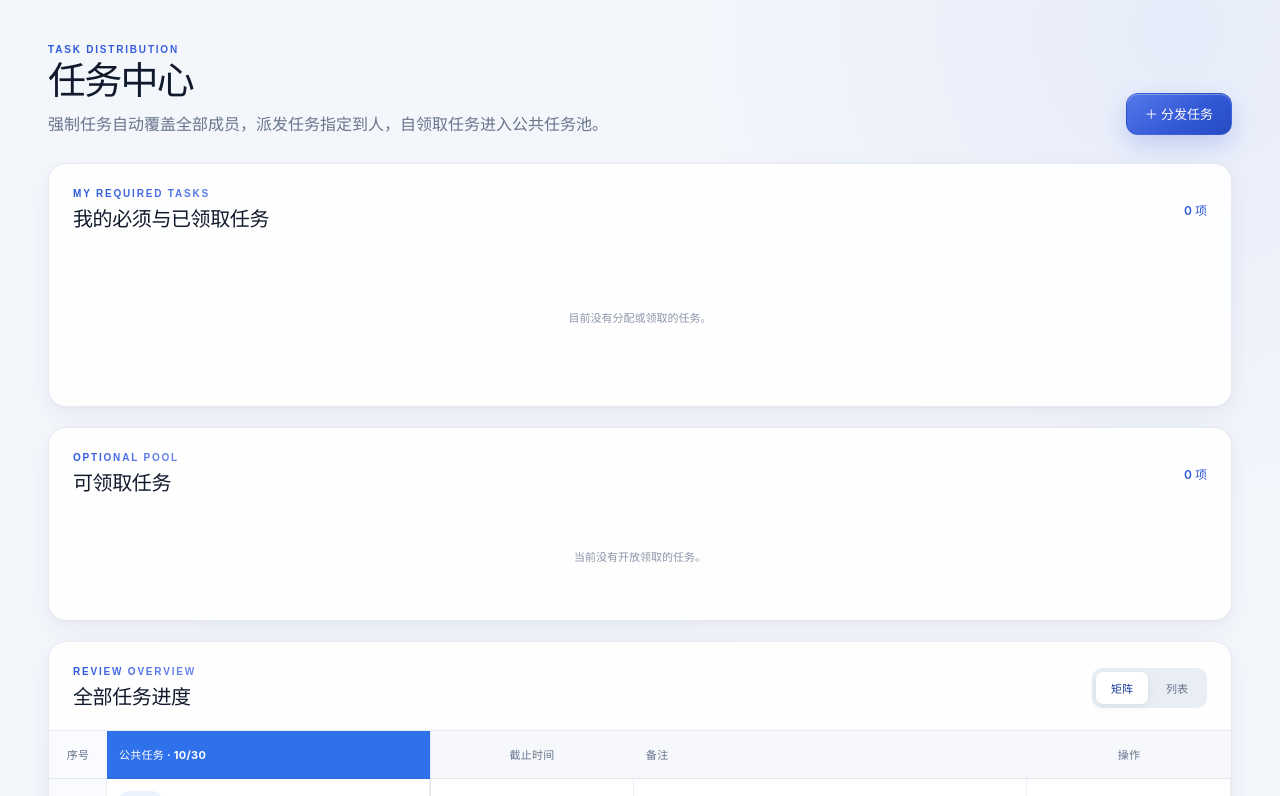
Test: large mocked workflow views › orders the newest task first, adds sequence numbers and lets an administrator delete an untouched task
Click the button "列表".
click(1177, 688)  # box [1151, 672, 1203, 704]
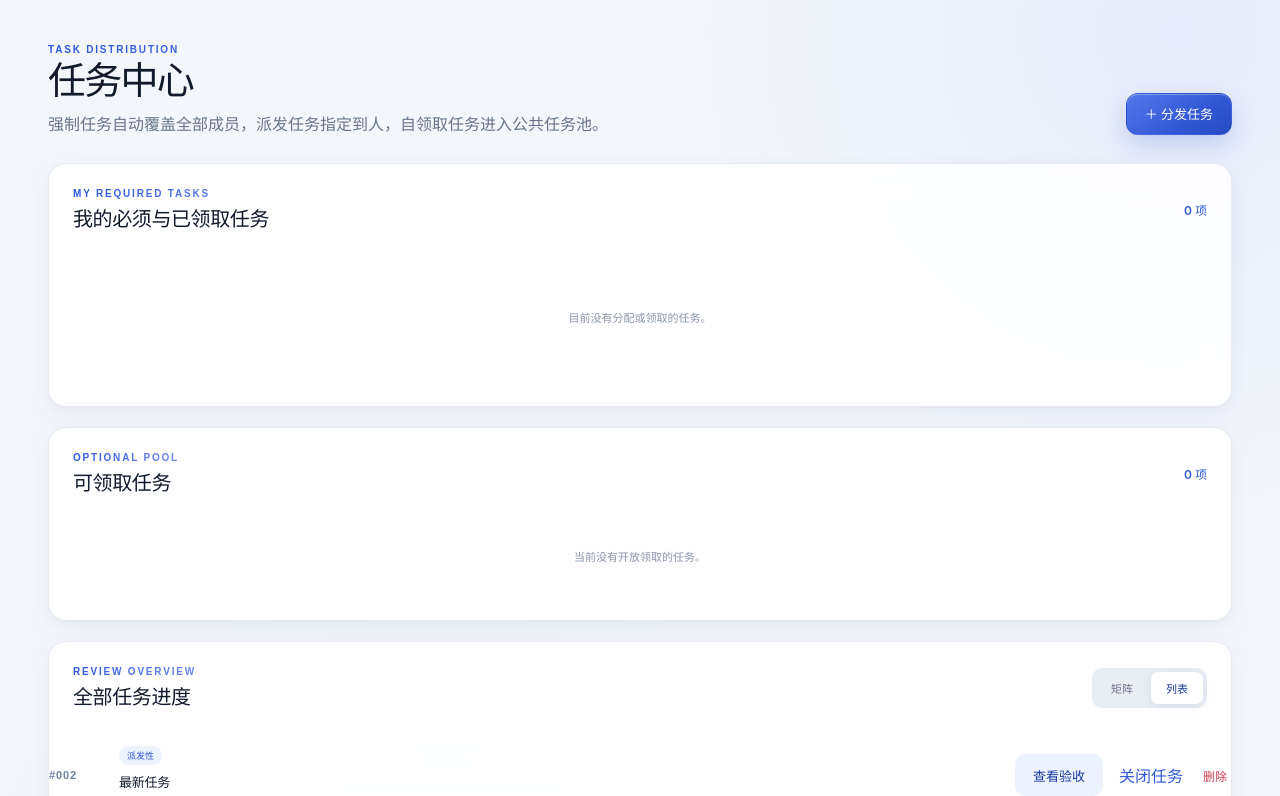
Check: the element with class "task-admin-row" shows "#002", box [49, 769, 77, 781]
Check: the element with class "task-admin-row" shows "最新任务", box [119, 774, 170, 790]
Click the button with class "task-delete".
click(1215, 775)  # box [1199, 760, 1231, 791]
(page scrolled)
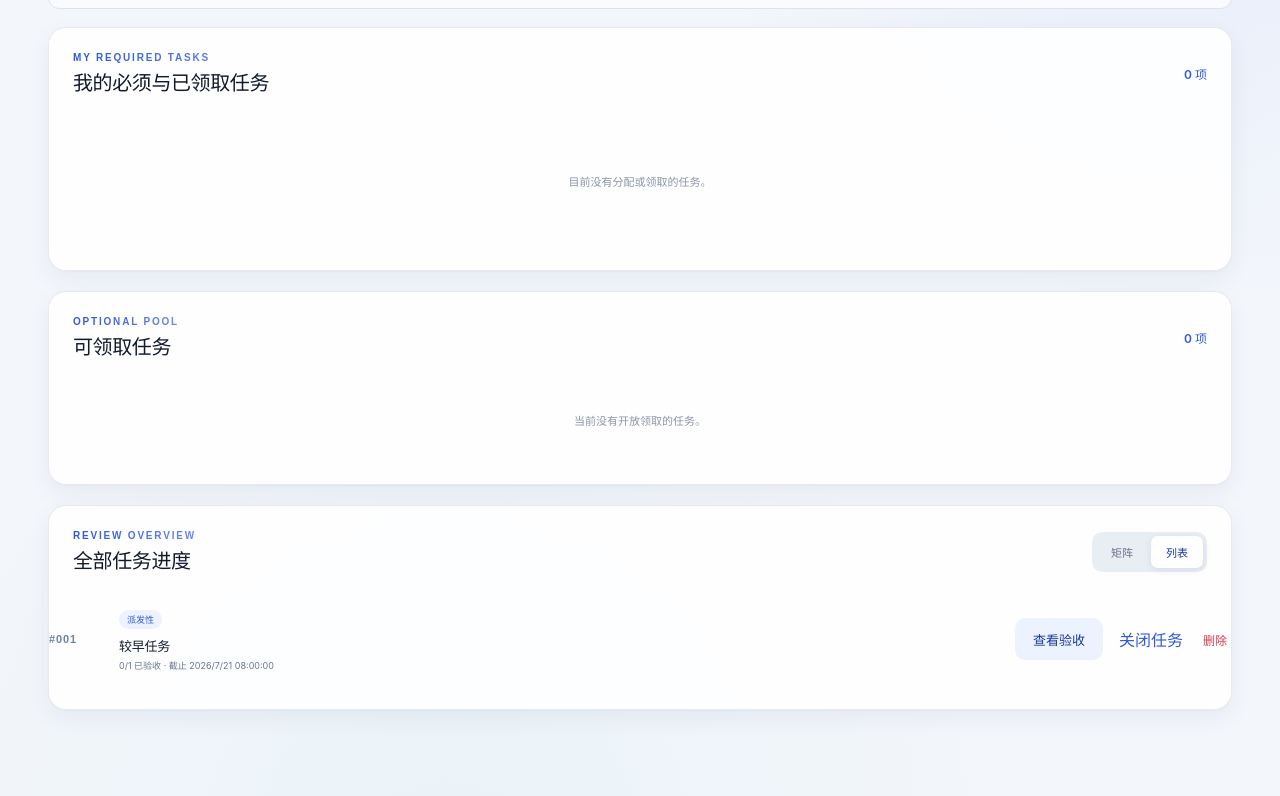
Check: the element with class "task-admin-row" shows "较早任务", box [119, 638, 170, 654]
Check: the number of elements with class "task-admin-row" is 1, box [49, 594, 1231, 685]
